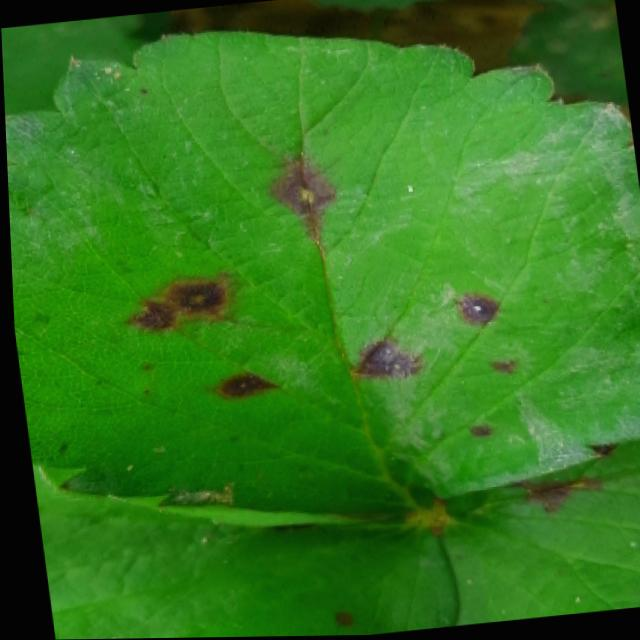Leaf Spot: (4, 29, 640, 523), (28, 467, 452, 640), (422, 443, 640, 627), (516, 0, 615, 18)
